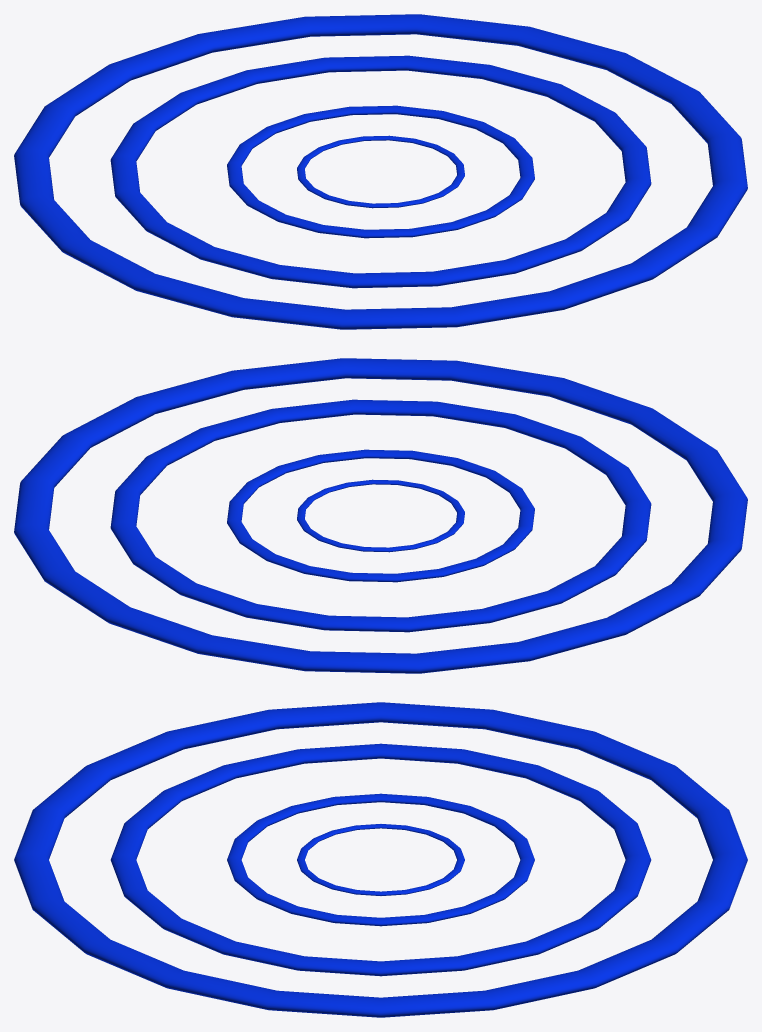
Rendered from Ping2.fbx.
The picture shows the model from 3 angles, top to bottom: view 1: azimuth 30°, elevation 25°; view 2: azimuth 150°, elevation 25°; view 3: azimuth 270°, elevation 25°; orthographic projection.
Parts seen in each view (by area): view 1: pTorus1, pTorus2, pTorus3, pTorus4; view 2: pTorus1, pTorus2, pTorus3, pTorus4; view 3: pTorus1, pTorus2, pTorus3, pTorus4.
Boxes of the visible parts, bbox=[...] form: pTorus1: bbox=[14, 14, 747, 329]; pTorus2: bbox=[110, 55, 651, 288]; pTorus3: bbox=[227, 105, 534, 238]; pTorus4: bbox=[297, 135, 464, 208]; pTorus1: bbox=[14, 358, 747, 673]; pTorus2: bbox=[110, 399, 651, 632]; pTorus3: bbox=[227, 449, 534, 582]; pTorus4: bbox=[297, 479, 464, 552]; pTorus1: bbox=[14, 702, 747, 1017]; pTorus2: bbox=[110, 743, 651, 976]; pTorus3: bbox=[227, 793, 534, 926]; pTorus4: bbox=[297, 824, 464, 895].
Size of the model in its own units: 2 by 0.0419 by 2.
